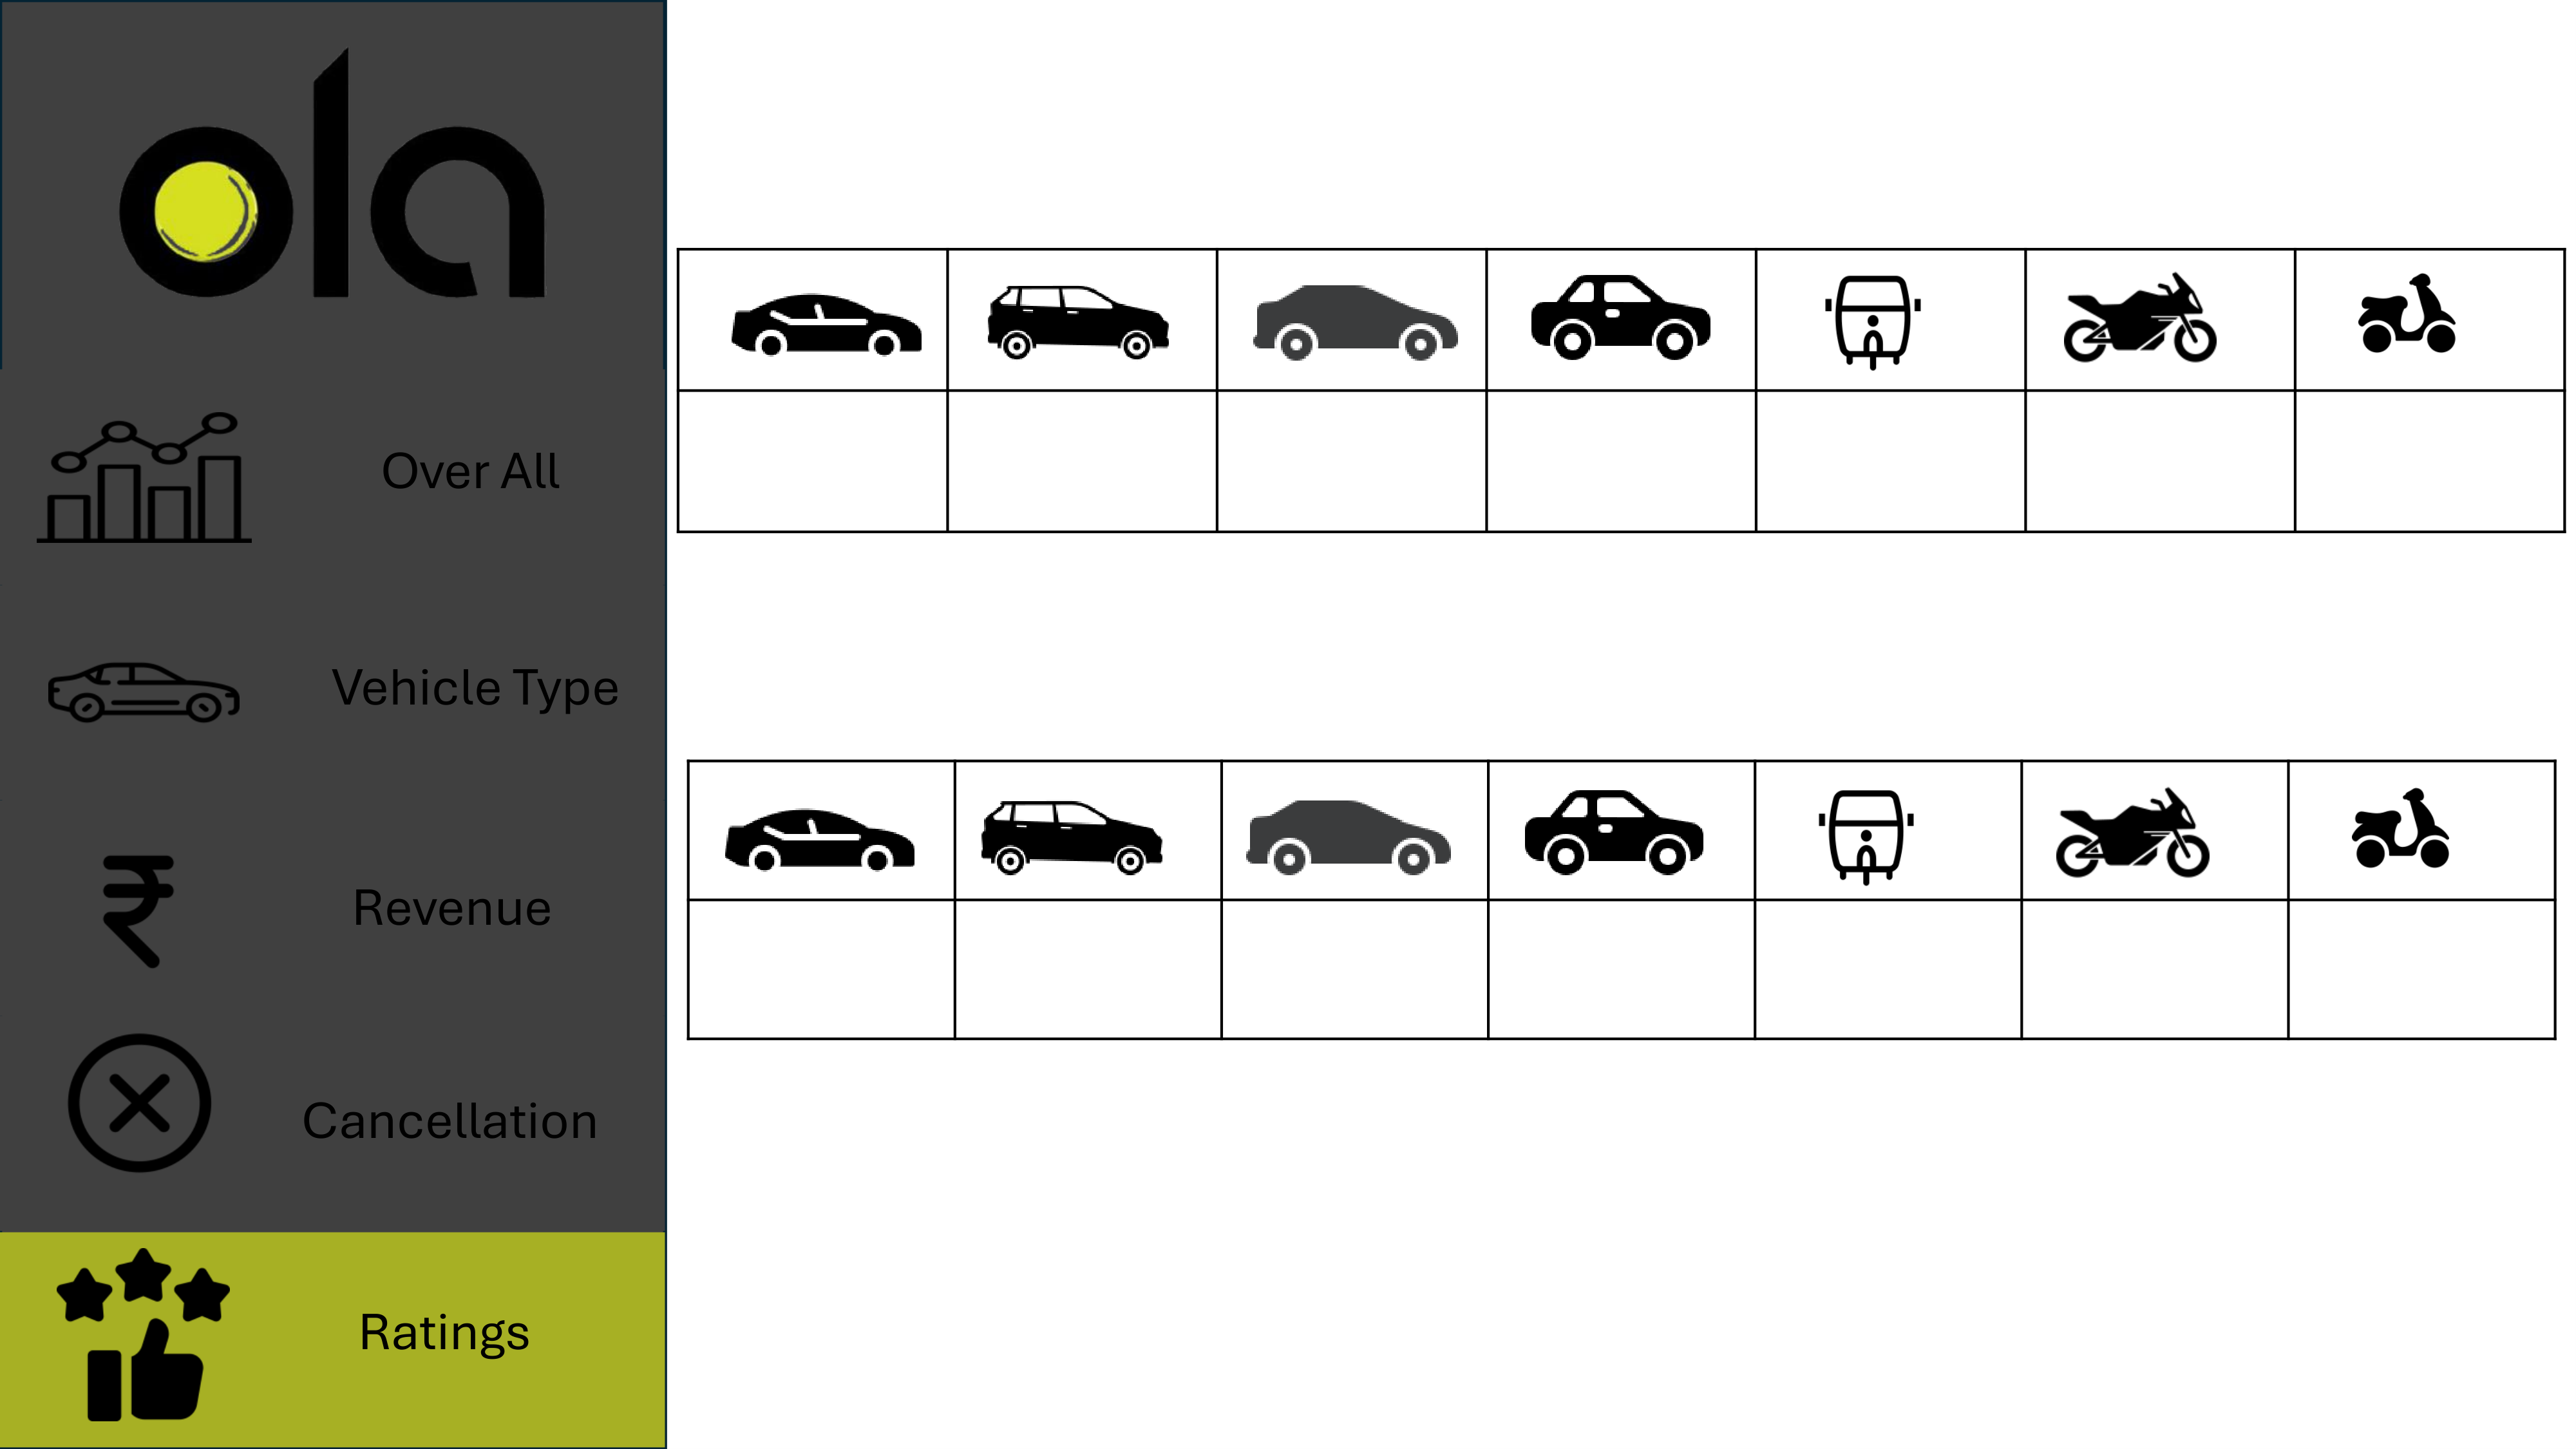

Layout of this report page (visuals, bound fields, positions):
{"tool":"powerbi","page":{"name":"Ratings","canvas":[1280,720],"ordinal":4},"visuals":[{"type":"actionButton","box":[0,299,330,95],"z":0},{"type":"actionButton","box":[0,397.5,330,101.2],"z":1000},{"type":"actionButton","box":[0,498.8,330,112.5],"z":2000},{"type":"actionButton","box":[0,611.2,330,108.8],"z":3000},{"type":"actionButton","box":[0,187.5,330,102.5],"z":4000},{"type":"textbox","box":[483.6,88.6,110,31.4],"z":5000},{"type":"textbox","box":[611.8,88.2,111.8,33.6],"z":6000},{"type":"textbox","box":[760.9,88.2,109.1,31.8],"z":7000},{"type":"textbox","box":[879.1,86.4,108.2,33.6],"z":8000},{"type":"textbox","box":[1020,86.4,107.3,35.5],"z":9000},{"type":"textbox","box":[1163.6,88.2,106.4,33.6],"z":10000},{"type":"textbox","box":[347.9,340.7,121.4,37.1],"z":11000},{"type":"textbox","box":[485.7,340.7,107.9,35.7],"z":12000},{"type":"textbox","box":[614.5,340.9,115.5,37.3],"z":13000},{"type":"textbox","box":[763.6,340.9,90.9,35.5],"z":14000},{"type":"textbox","box":[901.8,340.9,51.8,37.3],"z":15000},{"type":"textbox","box":[1021.8,340.9,86.4,37.3],"z":16000},{"type":"textbox","box":[1165.5,340.9,83.6,37.3],"z":17000},{"type":"textbox","box":[347.9,88.6,121.4,37.1],"z":18000},{"type":"card","fields":{"Values":["Avg(Sheet1.Customer_Rating)"]},"box":[337.8,196.7,131.1,65.6],"z":19000},{"type":"card","fields":{"Values":["Avg(Sheet1.Customer_Rating)"]},"box":[473.3,196.7,131.1,65.6],"z":21000},{"type":"card","fields":{"Values":["Avg(Sheet1.Customer_Rating)"]},"box":[606.7,196.7,131.1,65.6],"z":21001},{"type":"card","fields":{"Values":["Avg(Sheet1.Customer_Rating)"]},"box":[738.9,196.7,131.1,65.6],"z":21002},{"type":"card","fields":{"Values":["Avg(Sheet1.Customer_Rating)"]},"box":[1008.1,196.2,130.6,65.6],"z":21003},{"type":"card","fields":{"Values":["Avg(Sheet1.Customer_Rating)"]},"box":[1141.9,196.9,131.2,65.6],"z":21004},{"type":"card","fields":{"Values":["Avg(Sheet1.Customer_Rating)"]},"box":[875,196.9,131.2,65.6],"z":21005},{"type":"card","fields":{"Values":["Avg(Sheet1.Driver_Ratings)"]},"box":[342.5,448.8,131.2,66.2],"z":21006},{"type":"card","fields":{"Values":["Avg(Sheet1.Driver_Ratings)"]},"box":[475,448.8,131.2,66.2],"z":21007},{"type":"card","fields":{"Values":["Avg(Sheet1.Driver_Ratings)"]},"box":[607.5,448.8,131.2,66.2],"z":21008},{"type":"card","fields":{"Values":["Avg(Sheet1.Driver_Ratings)"]},"box":[742.5,448.8,127.5,66.2],"z":21009},{"type":"card","fields":{"Values":["Avg(Sheet1.Driver_Ratings)"]},"box":[875,448.8,127.5,66.2],"z":21010},{"type":"card","fields":{"Values":["Avg(Sheet1.Driver_Ratings)"]},"box":[1006.2,448.8,127.5,66.2],"z":21011},{"type":"card","fields":{"Values":["Avg(Sheet1.Driver_Ratings)"]},"box":[1140,448.8,127.5,66.2],"z":21012},{"type":"slicer","title":"Date","fields":{"Values":["Sheet1.Date"]},"box":[612,556,394,142],"z":21013}]}

Visuals, with their boxes on the page's 1280x720 design canvas (x1, y1, x2, y2). These are canvas units, not pixel positions in the 2576x1449 screenshot, which may show the page scaled, cropped or inside an application window:
actionButton: l=0, t=299, r=330, b=394
actionButton: l=0, t=398, r=330, b=499
actionButton: l=0, t=499, r=330, b=611
actionButton: l=0, t=611, r=330, b=720
actionButton: l=0, t=188, r=330, b=290
textbox: l=484, t=89, r=594, b=120
textbox: l=612, t=88, r=724, b=122
textbox: l=761, t=88, r=870, b=120
textbox: l=879, t=86, r=987, b=120
textbox: l=1020, t=86, r=1127, b=122
textbox: l=1164, t=88, r=1270, b=122
textbox: l=348, t=341, r=469, b=378
textbox: l=486, t=341, r=594, b=376
textbox: l=614, t=341, r=730, b=378
textbox: l=764, t=341, r=854, b=376
textbox: l=902, t=341, r=954, b=378
textbox: l=1022, t=341, r=1108, b=378
textbox: l=1166, t=341, r=1249, b=378
textbox: l=348, t=89, r=469, b=126
card - Avg(Sheet1.Customer_Rating): l=338, t=197, r=469, b=262
card - Avg(Sheet1.Customer_Rating): l=473, t=197, r=604, b=262
card - Avg(Sheet1.Customer_Rating): l=607, t=197, r=738, b=262
card - Avg(Sheet1.Customer_Rating): l=739, t=197, r=870, b=262
card - Avg(Sheet1.Customer_Rating): l=1008, t=196, r=1139, b=262
card - Avg(Sheet1.Customer_Rating): l=1142, t=197, r=1273, b=262
card - Avg(Sheet1.Customer_Rating): l=875, t=197, r=1006, b=262
card - Avg(Sheet1.Driver_Ratings): l=342, t=449, r=474, b=515
card - Avg(Sheet1.Driver_Ratings): l=475, t=449, r=606, b=515
card - Avg(Sheet1.Driver_Ratings): l=608, t=449, r=739, b=515
card - Avg(Sheet1.Driver_Ratings): l=742, t=449, r=870, b=515
card - Avg(Sheet1.Driver_Ratings): l=875, t=449, r=1002, b=515
card - Avg(Sheet1.Driver_Ratings): l=1006, t=449, r=1134, b=515
card - Avg(Sheet1.Driver_Ratings): l=1140, t=449, r=1268, b=515
"Date" slicer: l=612, t=556, r=1006, b=698
